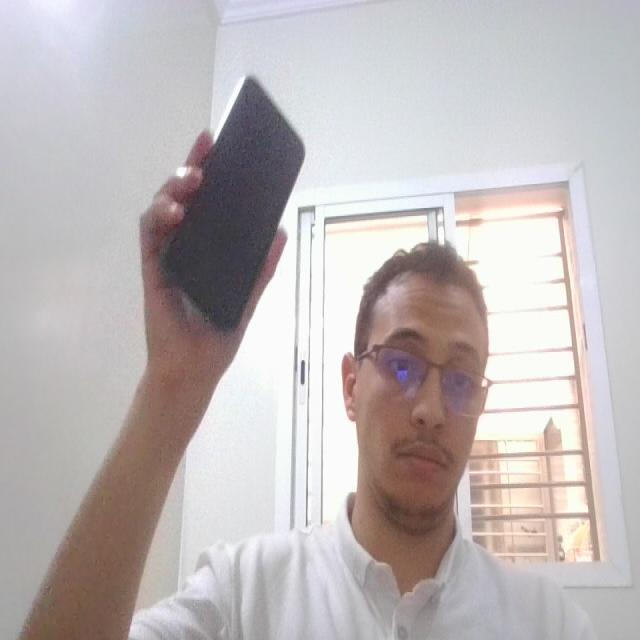phone: (151, 73, 325, 340)
